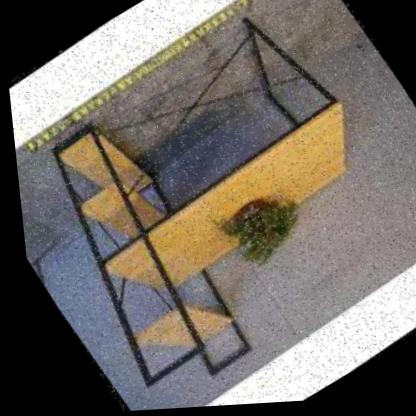Table: (0, 0, 406, 346)
